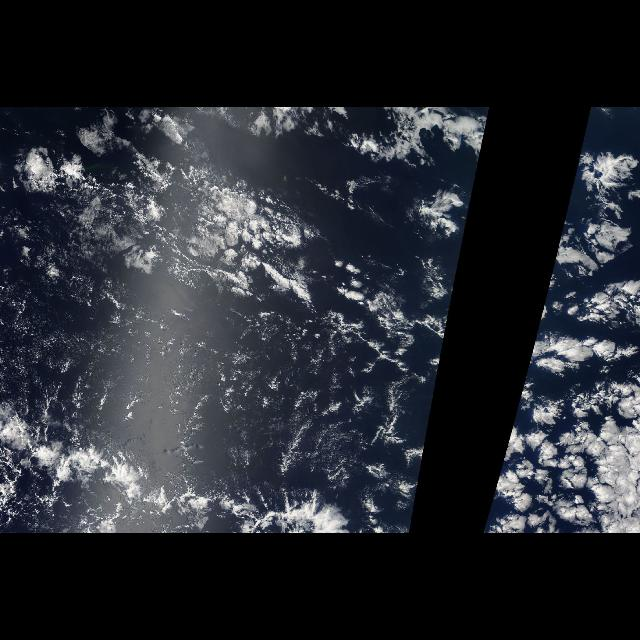Fish: (1, 392, 362, 534)
Flower: (307, 113, 489, 532), (480, 113, 640, 532)
Sugar: (13, 282, 251, 426)
